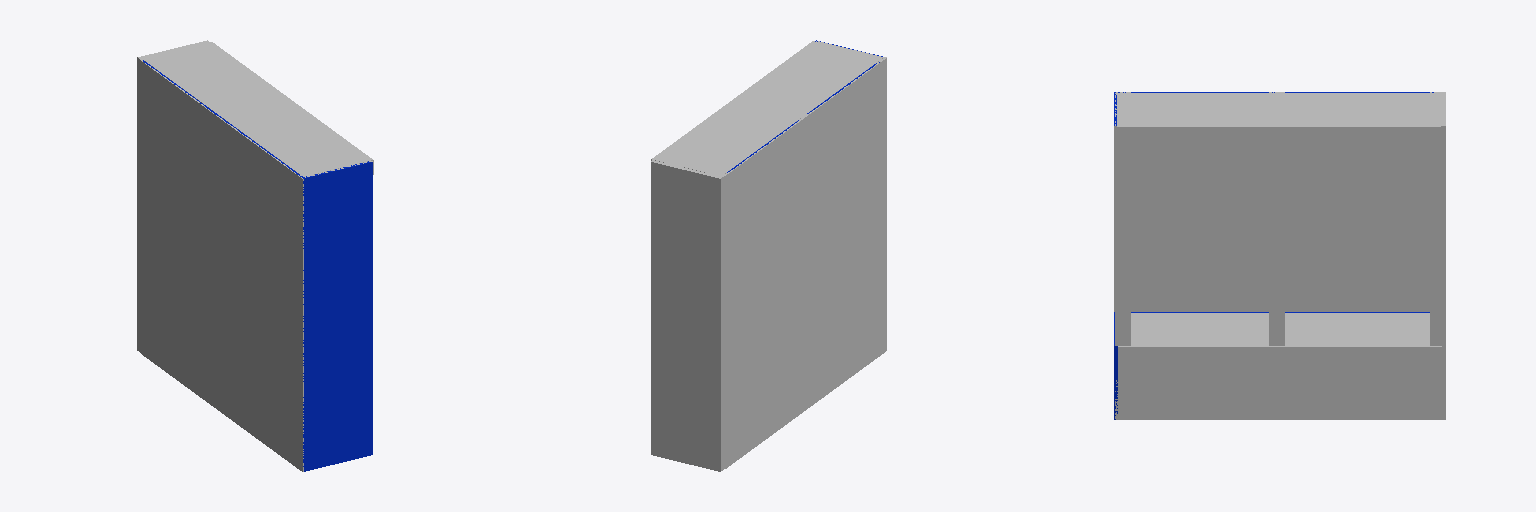
Rendered from cupboard.obj.
3 renders of one model, left to right at view 1: azimuth 30°, elevation 25°; view 2: azimuth 150°, elevation 25°; view 3: azimuth 270°, elevation 25°, orthographic.
Parts seen in each view (by area): view 1: Cube.006, Cube.002, Cube.009, Cube.007; view 2: Cube.006, Cube.007, Cube.009; view 3: Cube.006, Cube.010, Cube.009, Cube.007, Cube.008, Cube.011, Cube.004.
Part boxes in pixels (x1,y1,x2,y2): Cube.006: (141,60,303,471); Cube.002: (303,162,372,471); Cube.009: (142,42,373,176); Cube.007: (137,40,208,352); Cube.006: (724,57,886,468); Cube.007: (651,160,726,471); Cube.009: (651,41,882,175); Cube.006: (1114,126,1429,311); Cube.010: (1118,313,1441,419); Cube.009: (1117,93,1440,141); Cube.007: (1430,92,1445,419); Cube.008: (1115,92,1130,419); Cube.011: (1269,92,1284,345); Cube.004: (1114,312,1429,419).
Size of the model in its own units: 1.04 by 4 by 4.1.